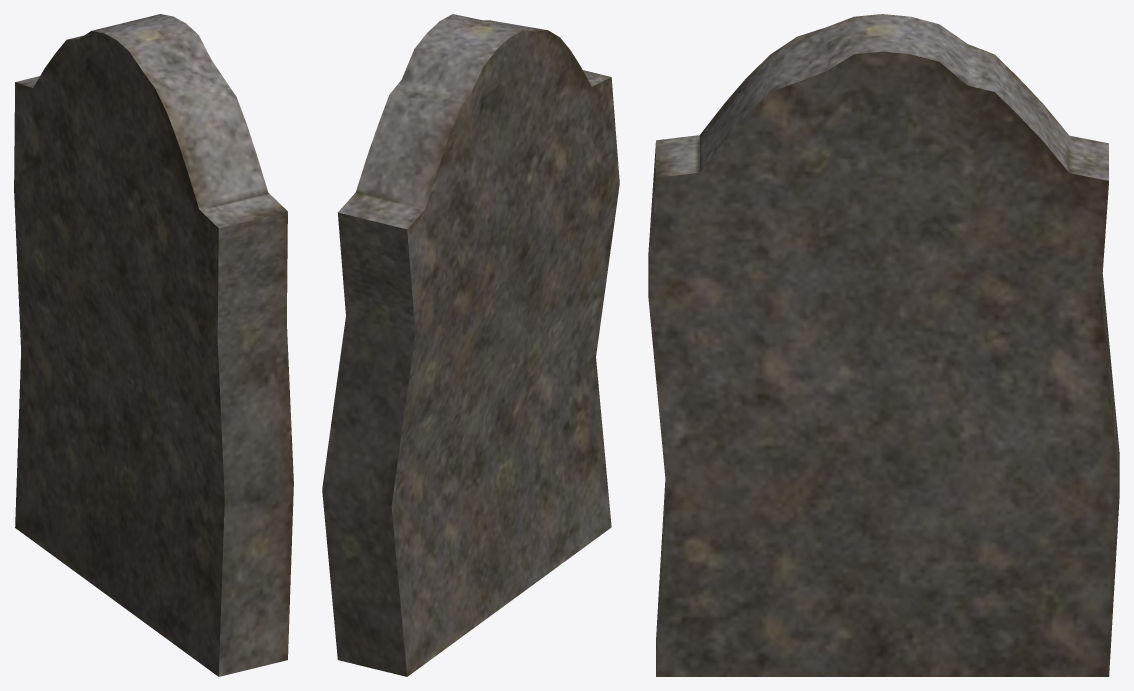
File: headstone.glb
3 renders of one model, left to right at view 1: azimuth 30°, elevation 25°; view 2: azimuth 150°, elevation 25°; view 3: azimuth 270°, elevation 25°, orthographic. The views are drawn at different scales.
Parts seen in each view (by area): view 1: headstone; view 2: headstone; view 3: headstone.
Boxes of the visible parts, x1=… form: headstone: x1=14, y1=14, x2=293, y2=676; headstone: x1=322, y1=14, x2=619, y2=676; headstone: x1=648, y1=14, x2=1119, y2=676.
Bounding box in the file's own units: 14.75 × 93.66 × 64.01.
Materials: 1 (1 with a texture image).
